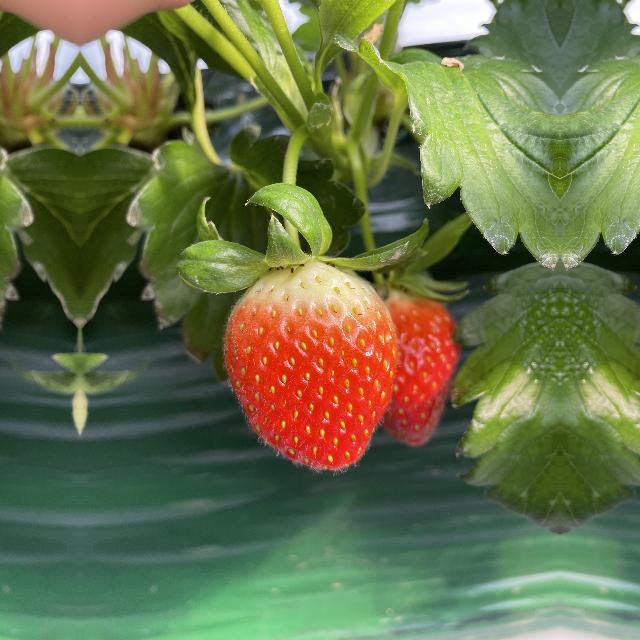Health_100: (217, 251, 417, 475), (374, 276, 460, 442)
